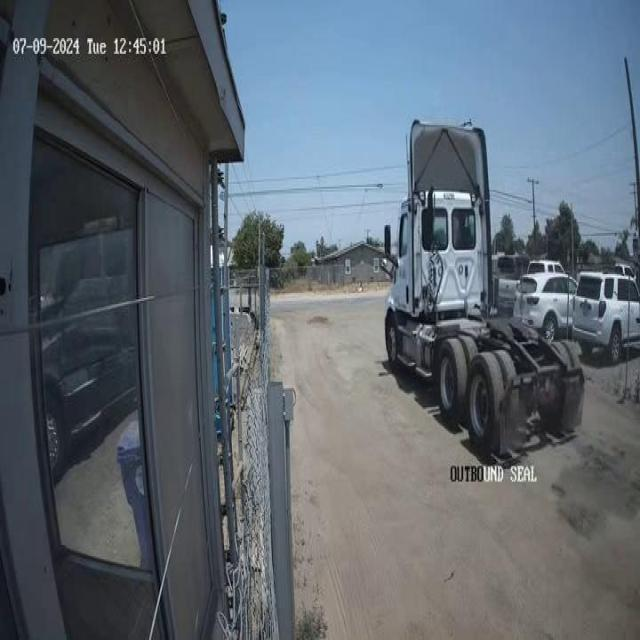TRUCK_OUT: (381, 115, 585, 462)
